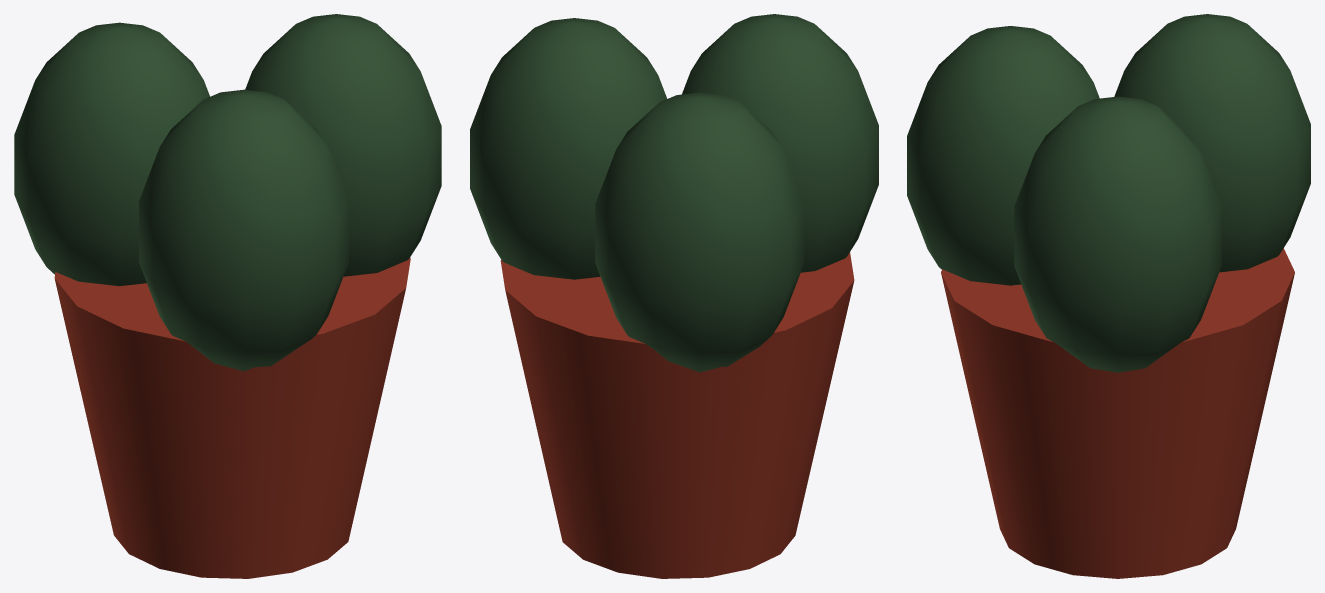
Rendered from pot.glb.
The picture shows the model from 3 angles, left to right: view 1: azimuth 30°, elevation 25°; view 2: azimuth 150°, elevation 25°; view 3: azimuth 270°, elevation 25°; orthographic projection.
Visible parts, largest first — view 1: _MeshInstance3D_238, _MeshInstance3D_240, _MeshInstance3D_241, _MeshInstance3D_239; view 2: _MeshInstance3D_238, _MeshInstance3D_241, _MeshInstance3D_239, _MeshInstance3D_240; view 3: _MeshInstance3D_238, _MeshInstance3D_239, _MeshInstance3D_240, _MeshInstance3D_241.
Part boxes in pixels (<box>): _MeshInstance3D_238: <box>54,257,410,578</box>; _MeshInstance3D_240: <box>139,89,348,371</box>; _MeshInstance3D_241: <box>14,22,209,286</box>; _MeshInstance3D_239: <box>245,14,441,276</box>; _MeshInstance3D_238: <box>500,252,854,578</box>; _MeshInstance3D_241: <box>595,92,804,372</box>; _MeshInstance3D_239: <box>470,18,667,279</box>; _MeshInstance3D_240: <box>682,14,878,272</box>; _MeshInstance3D_238: <box>941,248,1294,578</box>; _MeshInstance3D_239: <box>1014,96,1221,372</box>; _MeshInstance3D_240: <box>907,26,1099,285</box>; _MeshInstance3D_241: <box>1114,14,1310,272</box>.
Bounding box in the file's own units: 0.3409 × 0.445 × 0.3421.
